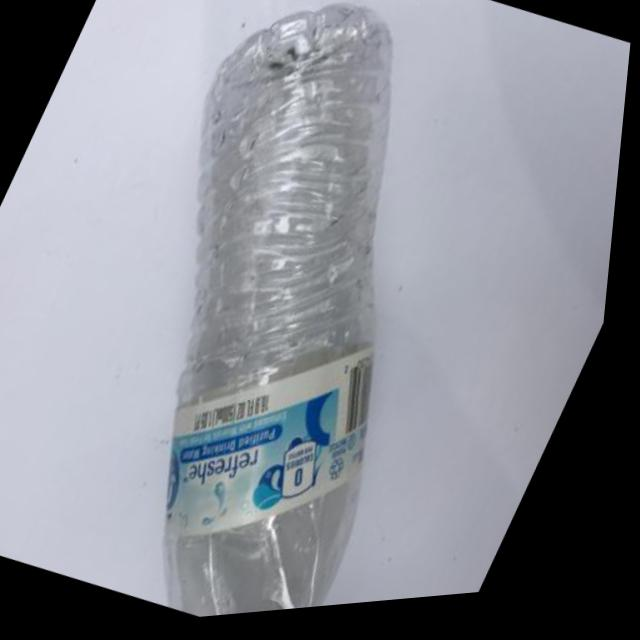plastic: (0, 0, 612, 639)
